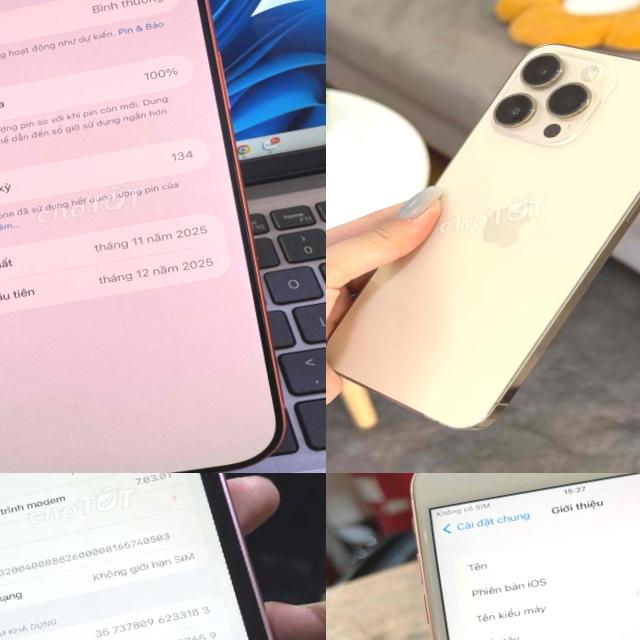scratch: (416, 524, 429, 546)
